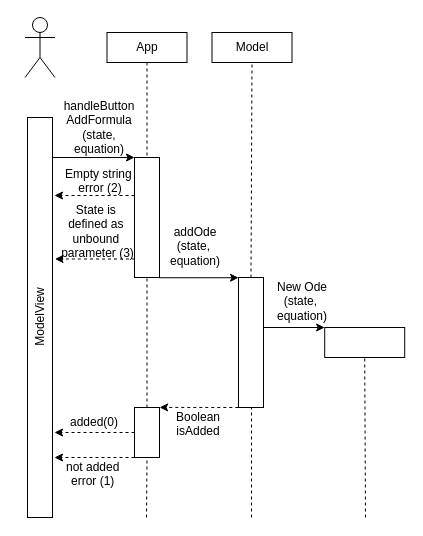
This 423x536 diagram has some shape labels left out. The centre of each missing label's shape, as x and y in pixels:
Modeller: the point at 39,47
Ode: the point at 364,342
